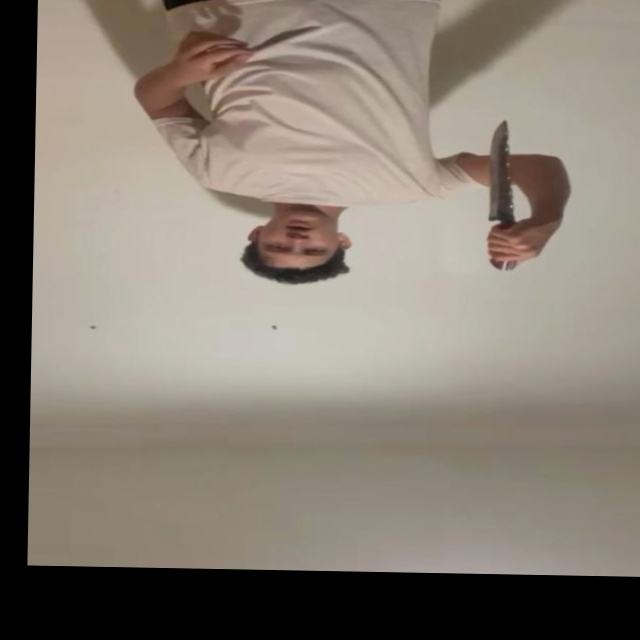Sharp-Object: (485, 118, 517, 222)
